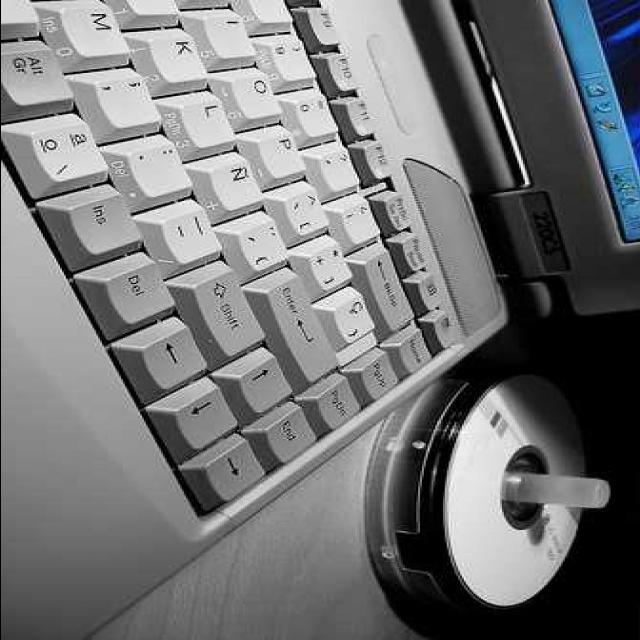laptop: (36, 2, 622, 308)
